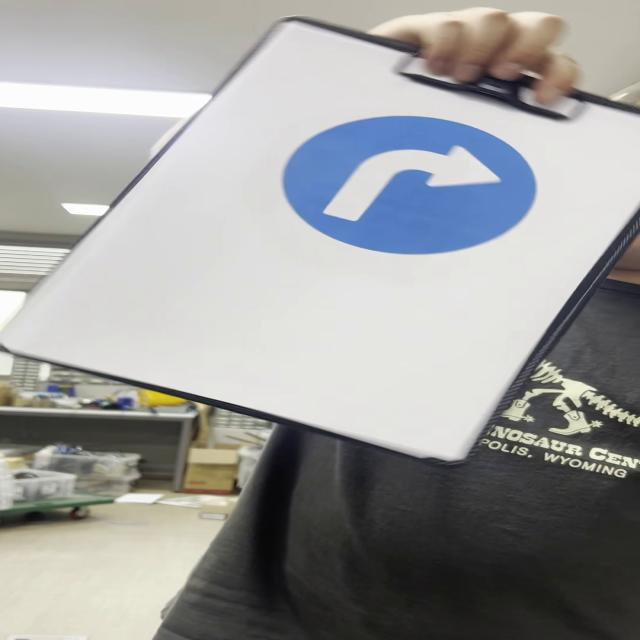right: (284, 114, 540, 255)
